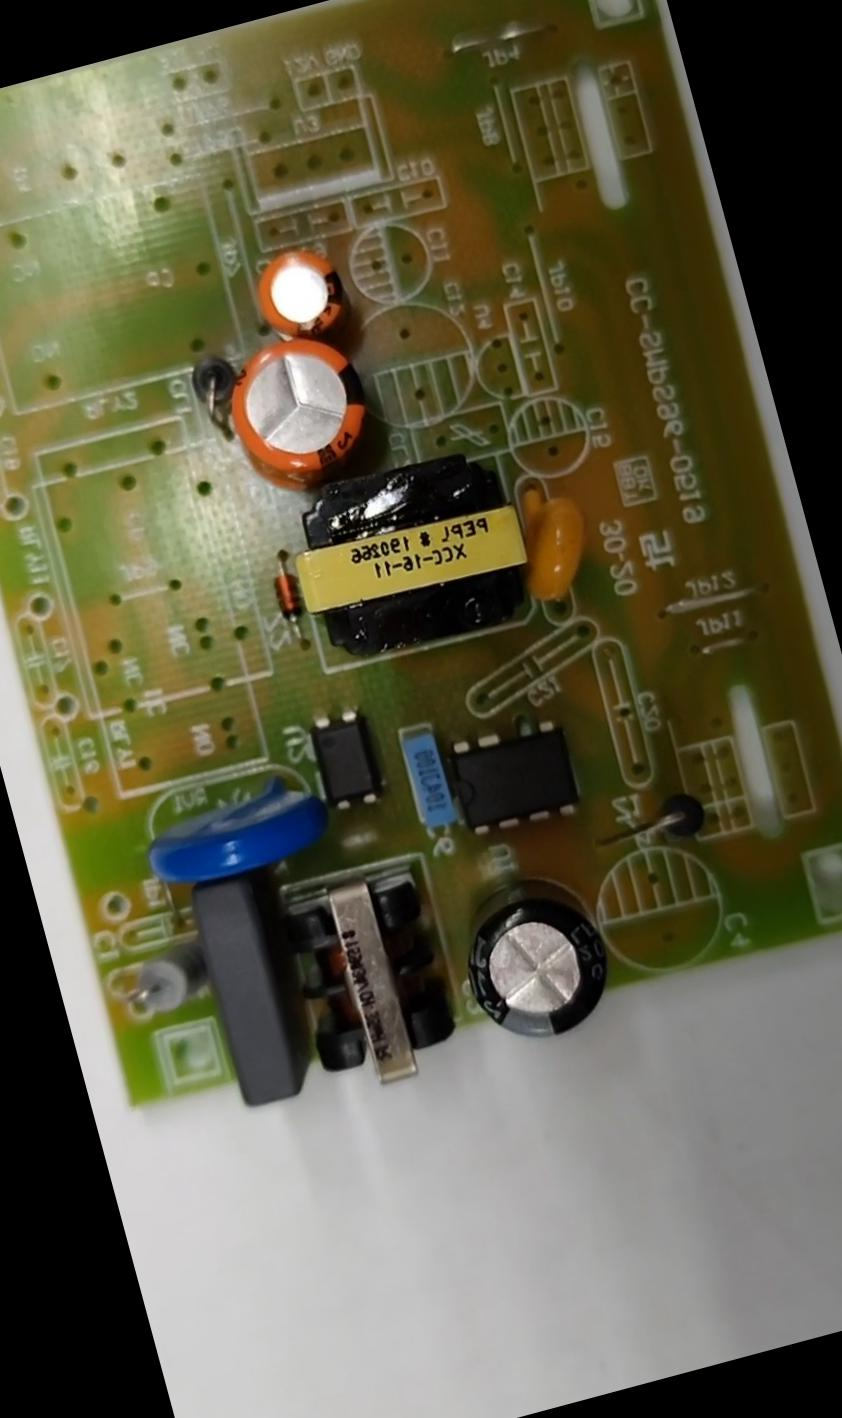Cap1: (218, 328, 381, 502)
Cap2: (251, 244, 347, 343)
Cap3: (448, 864, 617, 1054)
MOSFET: (443, 716, 580, 841)
Mov: (132, 765, 331, 896)
Resistor: (115, 937, 215, 1024)
Transformer: (281, 439, 546, 676), (273, 858, 470, 1110)
